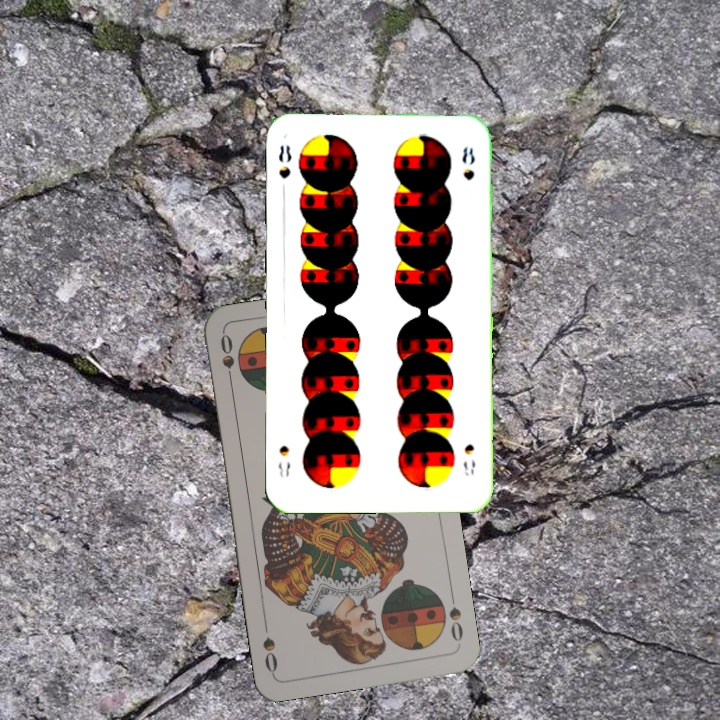S8: (275, 141, 294, 181), (459, 440, 478, 478)
SO: (216, 330, 237, 389), (445, 589, 466, 644)
